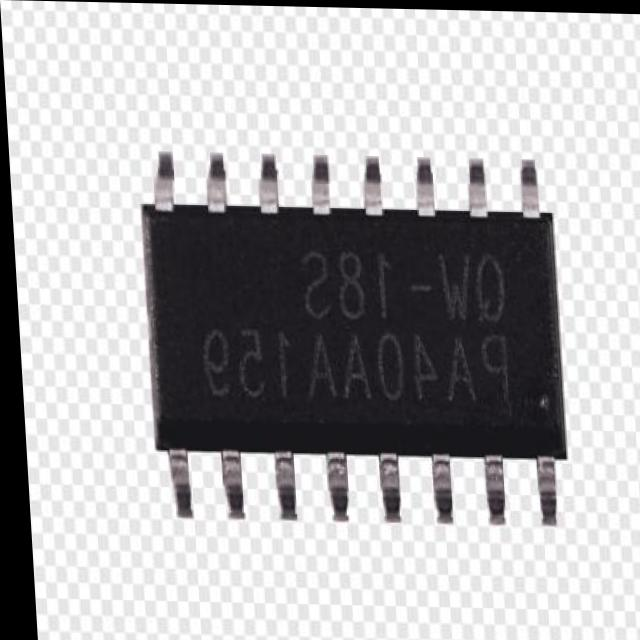IC chip: (138, 197, 561, 460)
